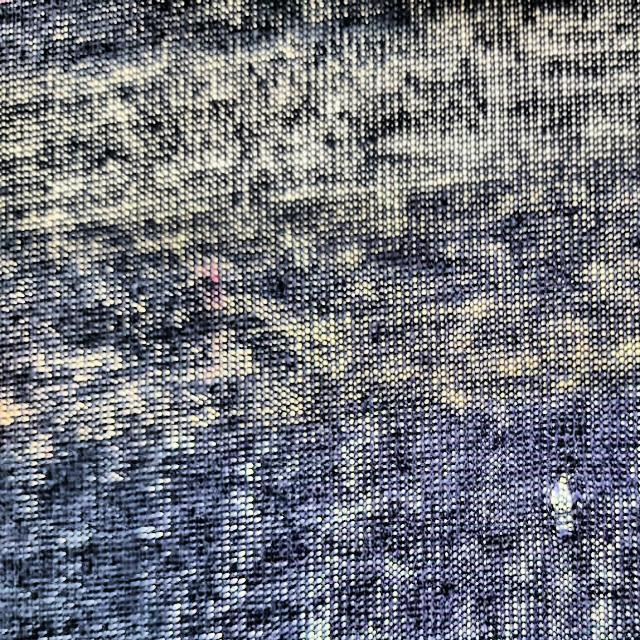cut: (536, 461, 587, 549)
